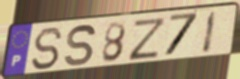7: (165, 11, 201, 59)
8: (100, 21, 127, 64)
I: (200, 10, 219, 55)
S: (63, 23, 98, 68), (30, 26, 64, 72)
Z: (128, 16, 169, 62)
